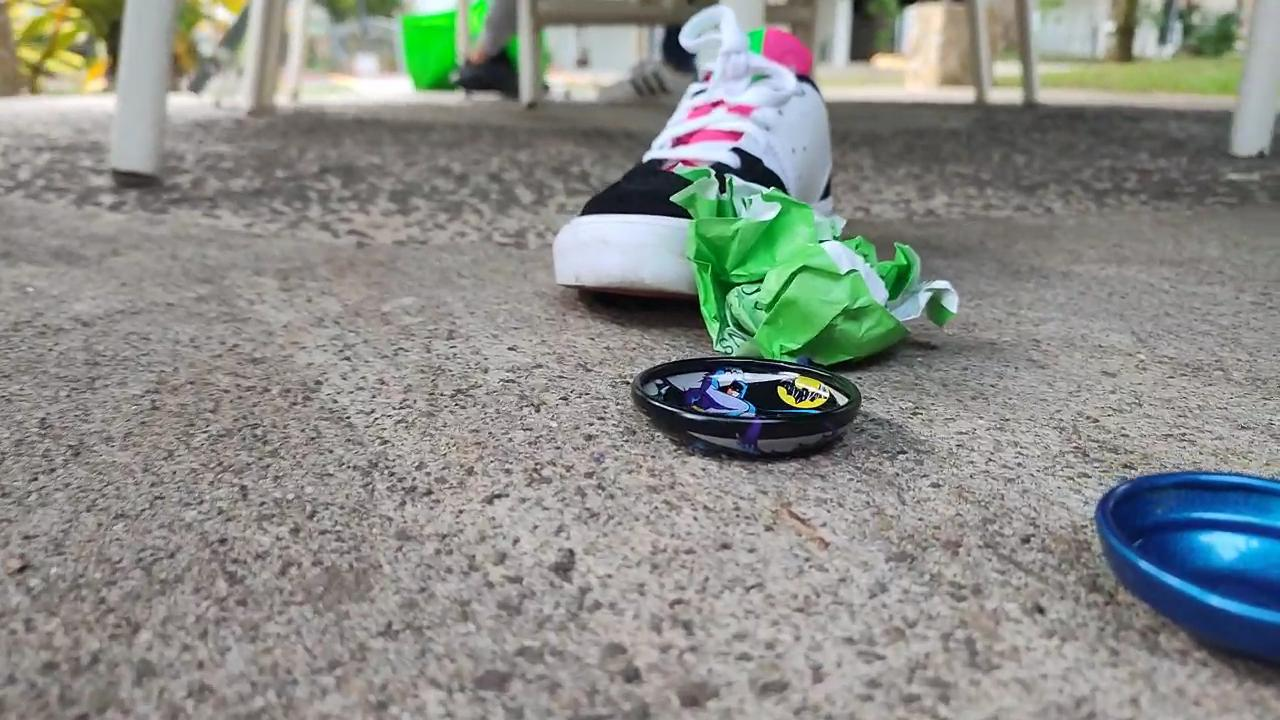paper: (673, 168, 958, 365)
